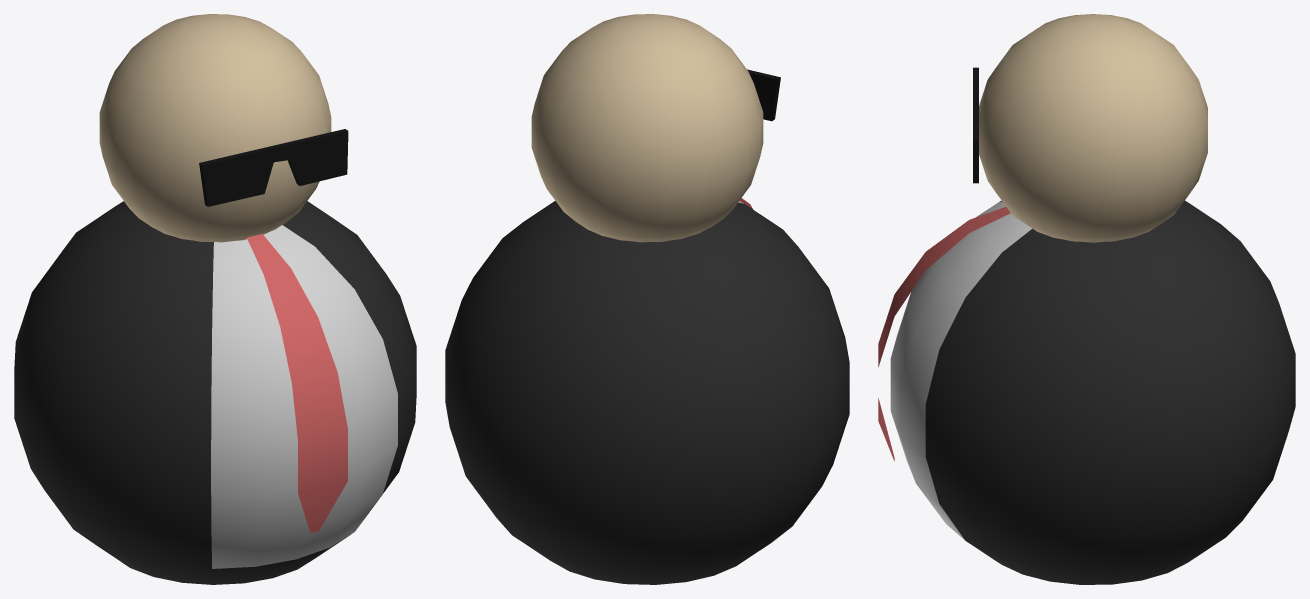
The model's file is Player.fbx.
3 views of the same model, side by side, from view 1: azimuth 30°, elevation 25°; view 2: azimuth 150°, elevation 25°; view 3: azimuth 270°, elevation 25° (orthographic).
Parts seen in each view (by area): view 1: Player; view 2: Player; view 3: Player.
Boxes of the visible parts, box(x1,y1,x2,y2) form: Player: box(14, 14, 416, 584); Player: box(445, 14, 849, 584); Player: box(878, 14, 1295, 584).
Size of the model in its own units: 294 by 438 by 305.
